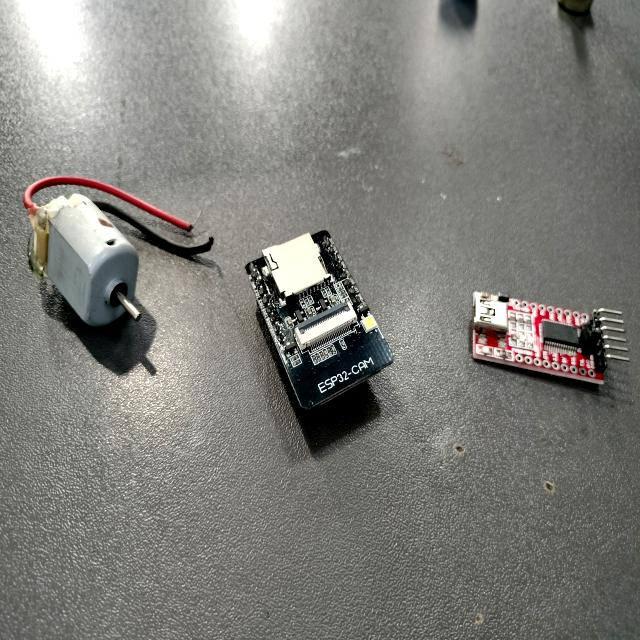DC-Motor: (22, 181, 152, 343)
ESP32-CAM: (240, 222, 401, 431)
FT-232-USB-Serial-Module: (460, 272, 637, 402)
